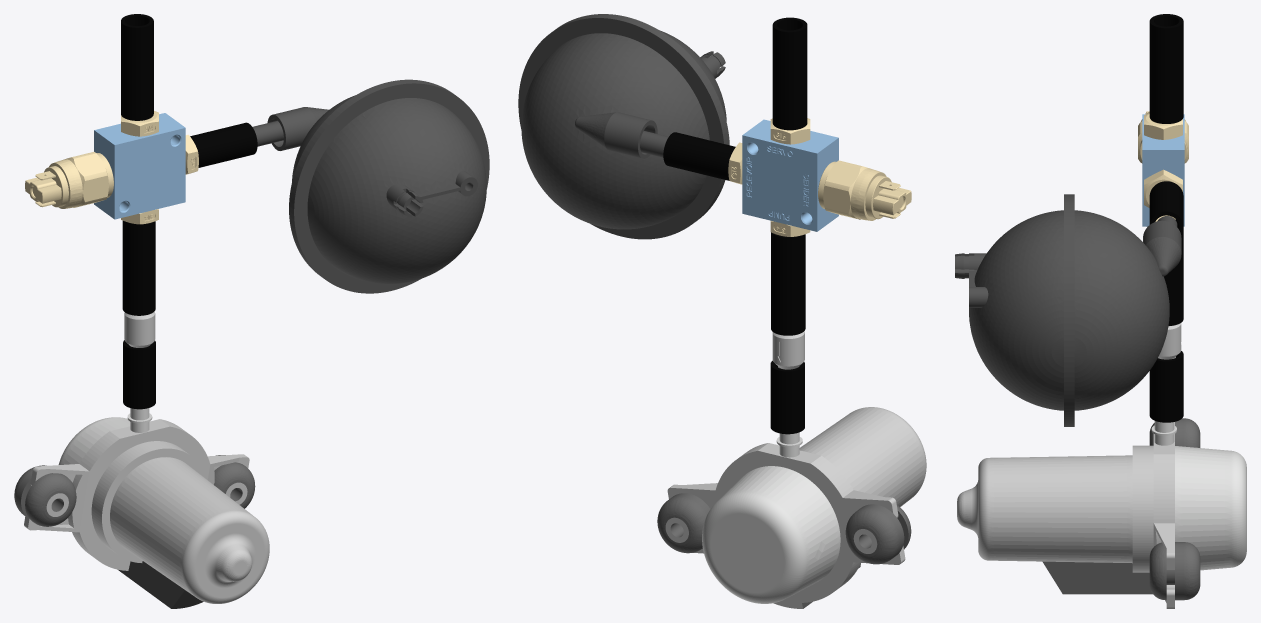
The model's file is BrakeVacuumKit.glb.
The picture shows the model from 3 angles, left to right: view 1: azimuth 30°, elevation 25°; view 2: azimuth 150°, elevation 25°; view 3: azimuth 270°, elevation 25°; orthographic projection. The views are drawn at different scales.
Parts seen in each view (by area): view 1: Node3, Node2, Node7, Node1, Node6, Node5, Node4; view 2: Node3, Node2, Node4, Node7, Node1, Node6, Node5; view 3: Node3, Node2, Node4, Node7, Node5, Node1, Node6.
Boxes of the visible parts, x1,y1,x2,y2 form: Node3: (118,79,489,608); Node2: (24,311,269,603); Node7: (121,14,257,409); Node1: (94,113,185,219); Node6: (25,111,198,224); Node5: (14,455,255,526); Node4: (58,408,152,464); Node3: (518,14,860,608); Node2: (665,331,926,608); Node4: (702,432,840,603); Node7: (663,17,807,434); Node1: (742,119,838,231); Node6: (728,118,911,236); Node5: (657,493,911,564); Node3: (955,194,1181,594); Node2: (957,323,1181,608); Node4: (1151,421,1246,570); Node7: (1149,14,1183,422); Node5: (1149,418,1200,600); Node1: (1142,114,1184,226); Node6: (1138,111,1188,226).
Bounding box in the file's own units: 233 × 295 × 138.
